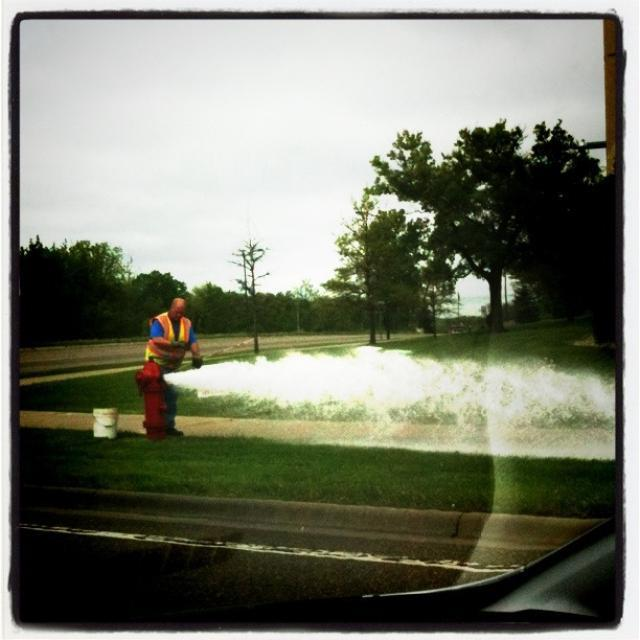fire_hydrant: (141, 354, 179, 437)
